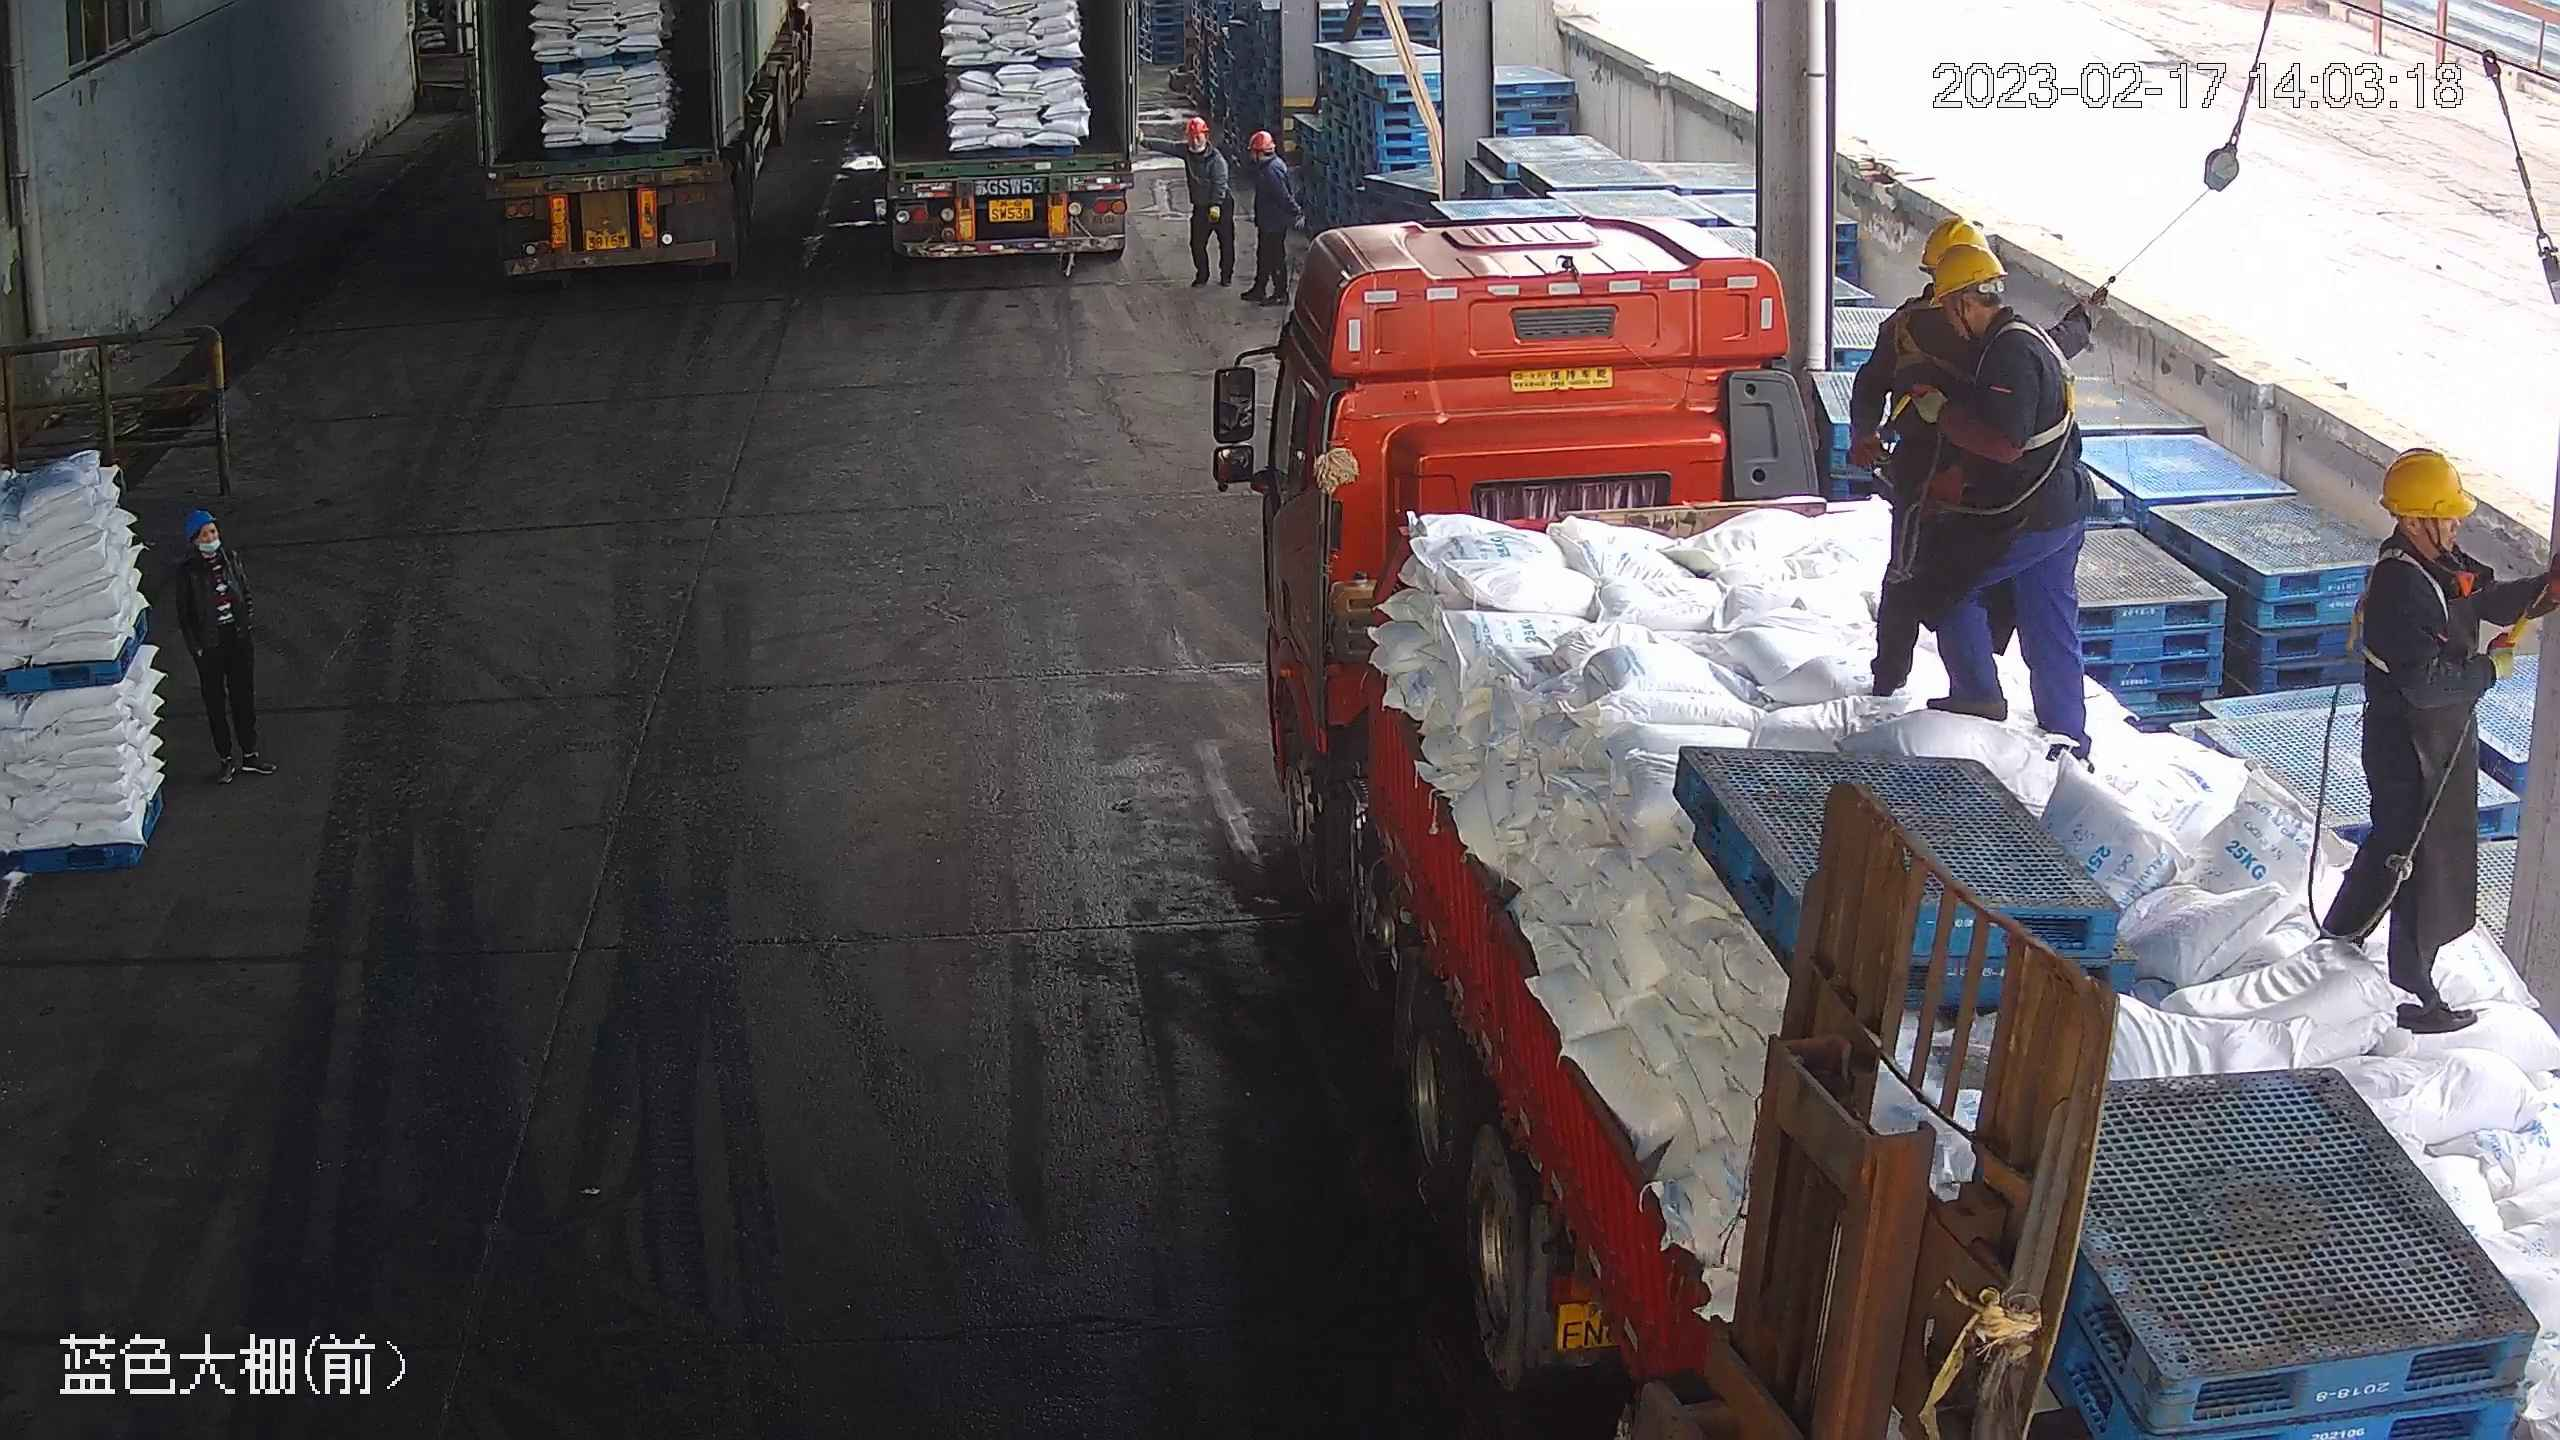belt: (2356, 541, 2476, 676), (1989, 317, 2088, 452), (1875, 300, 1953, 375)
head: (2351, 443, 2511, 623), (1926, 241, 2063, 392), (180, 511, 240, 594), (1242, 128, 1294, 187), (1175, 115, 1219, 171)
helmet: (2373, 441, 2482, 519), (1920, 229, 2002, 291), (1918, 211, 1988, 264), (188, 511, 218, 540), (1246, 130, 1277, 150), (1181, 114, 1207, 135)
people: (2311, 442, 2559, 1034), (1872, 234, 2096, 764), (180, 511, 279, 784), (1173, 113, 1229, 294), (1238, 128, 1295, 303)
truck: (1220, 192, 2558, 1440), (475, 1, 823, 281), (848, 1, 1191, 281)
